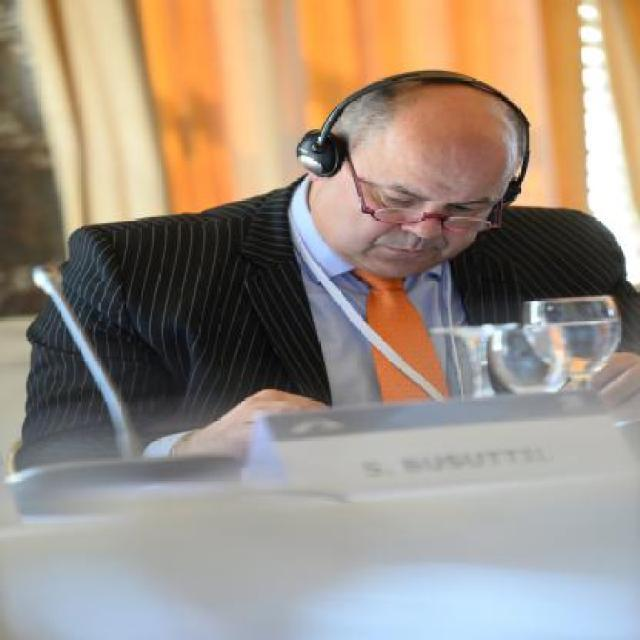earphone: (294, 77, 564, 188)
